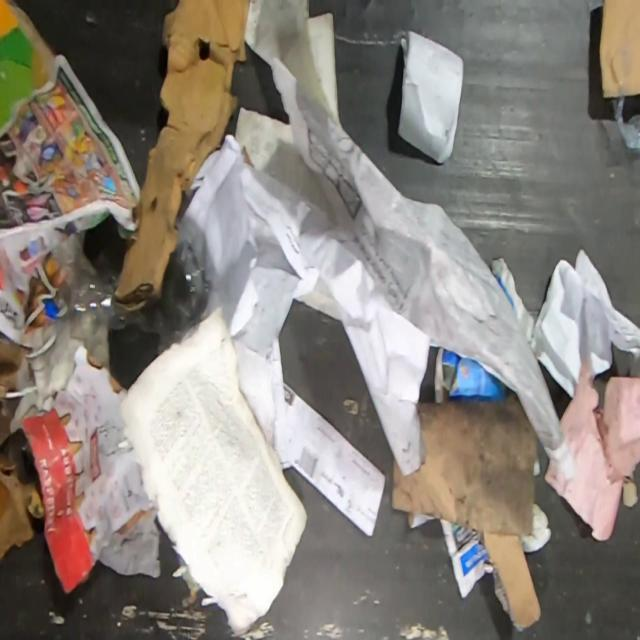cardboard: (113, 0, 250, 314), (388, 398, 541, 636), (19, 342, 159, 596), (0, 0, 58, 139), (0, 456, 44, 561), (0, 328, 36, 448), (599, 0, 640, 105)
rigid_plastic: (44, 236, 212, 344), (611, 96, 639, 150)
